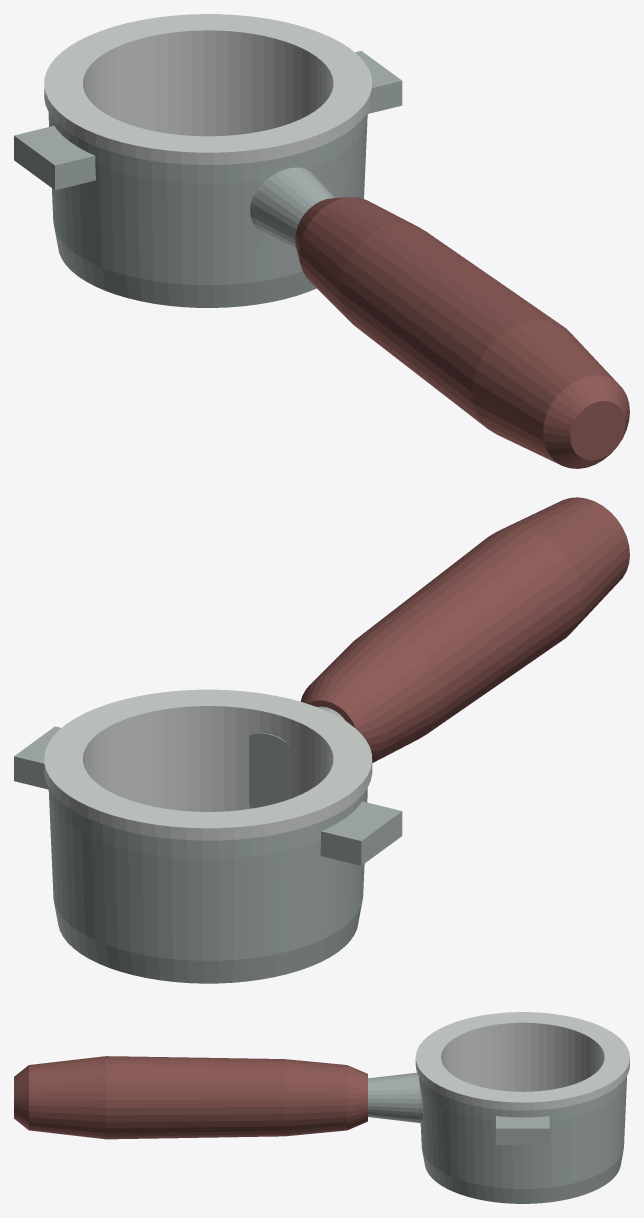
3 renders of one model, top to bottom at view 1: azimuth 30°, elevation 25°; view 2: azimuth 150°, elevation 25°; view 3: azimuth 270°, elevation 25°, orthographic. The views are drawn at different scales.
Visible parts, largest first — view 1: WholeLongRoundedHandleGrip, WholeOpenBasketReturnedLipAndRadialThroughFloor, WholeBottomlessHolderRing, WholePairedMountingLugs, WholeSeatedTaperedCircularHandleNeck; view 2: WholeBottomlessHolderRing, WholeLongRoundedHandleGrip, WholeOpenBasketReturnedLipAndRadialThroughFloor, WholePairedMountingLugs, WholeSeatedTaperedCircularHandleNeck; view 3: WholeLongRoundedHandleGrip, WholeBottomlessHolderRing, WholeOpenBasketReturnedLipAndRadialThroughFloor, WholeSeatedTaperedCircularHandleNeck, WholePairedMountingLugs.
Boxes of the visible parts, left/top/right/bottom form: WholeLongRoundedHandleGrip: left=295, top=197, right=629, bottom=468; WholeOpenBasketReturnedLipAndRadialThroughFloor: left=44, top=14, right=372, bottom=164; WholeBottomlessHolderRing: left=48, top=112, right=367, bottom=307; WholePairedMountingLugs: left=14, top=50, right=402, bottom=190; WholeSeatedTaperedCircularHandleNeck: left=250, top=167, right=334, bottom=250; WholeBottomlessHolderRing: left=48, top=788, right=367, bottom=983; WholeLongRoundedHandleGrip: left=300, top=497, right=629, bottom=762; WholeOpenBasketReturnedLipAndRadialThroughFloor: left=44, top=689, right=372, bottom=840; WholePairedMountingLugs: left=14, top=726, right=402, bottom=865; WholeSeatedTaperedCircularHandleNeck: left=249, top=706, right=345, bottom=808; WholeLongRoundedHandleGrip: left=14, top=1056, right=367, bottom=1139; WholeBottomlessHolderRing: left=419, top=1076, right=626, bottom=1203; WholeOpenBasketReturnedLipAndRadialThroughFloor: left=415, top=1012, right=629, bottom=1110; WholeSeatedTaperedCircularHandleNeck: left=368, top=1072, right=422, bottom=1123; WholePairedMountingLugs: left=496, top=1116, right=549, bottom=1144.
Bounding box in the file's own units: 0.088 × 0.039 × 0.207.
